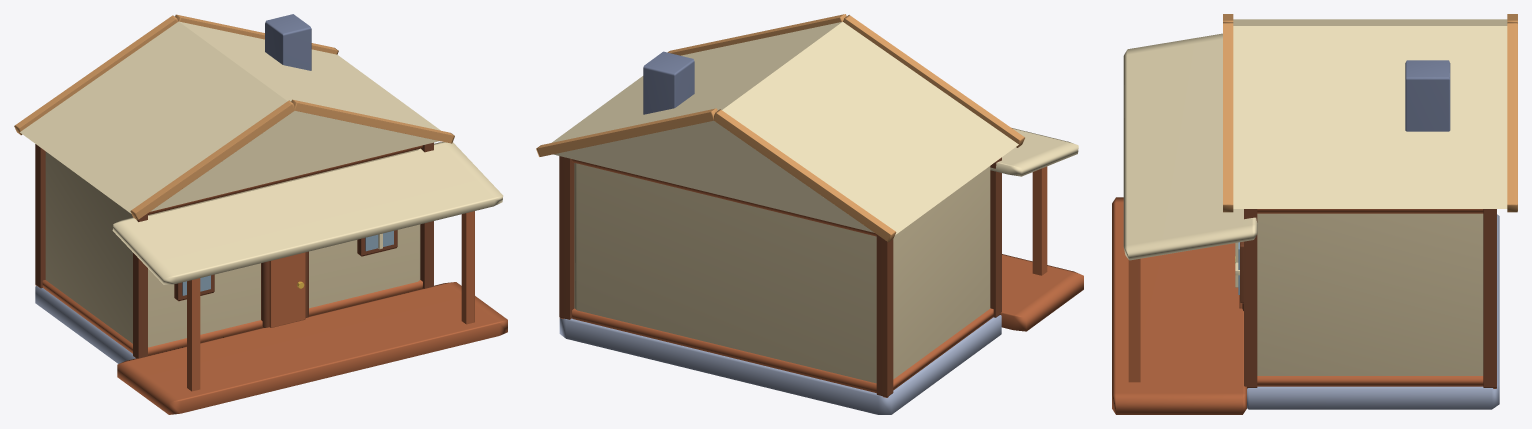
Rendered from farm_longhouse.glb.
3 views of the same model, side by side, from view 1: azimuth 30°, elevation 25°; view 2: azimuth 150°, elevation 25°; view 3: azimuth 270°, elevation 25° (orthographic). The views are drawn at different scales.
Visible parts, largest first — view 1: Pitched roof.001, Porch canopy.001, Plaster walls.001, Porch deck.001, Timber band.002, Door planks.001, Roof trim.004, Chimney.001, Stone footing.001, Roof trim.005, Roof trim.006, Porch post.002 (+7 smaller); view 2: Plaster walls.001, Pitched roof.001, Stone footing.001, Timber band.002, Porch deck.001, Roof trim.006, Corner post.005, Chimney.001, Corner post.007, Porch canopy.001, Roof trim.007, Roof trim.004 (+4 smaller); view 3: Pitched roof.001, Plaster walls.001, Porch canopy.001, Porch deck.001, Stone footing.001, Chimney.001, Corner post.007, Timber band.002, Corner post.006, Roof trim.007, Roof trim.005, Porch post.003 (+1 smaller).
Boxes of the visible parts, bbox=[...] form: Pitched roof.001: bbox=[20, 21, 440, 213]; Porch canopy.001: bbox=[112, 142, 503, 284]; Plaster walls.001: bbox=[45, 149, 420, 347]; Porch deck.001: bbox=[117, 282, 507, 414]; Timber band.002: bbox=[42, 280, 422, 355]; Door planks.001: bbox=[269, 252, 305, 327]; Roof trim.004: bbox=[130, 100, 294, 220]; Chimney.001: bbox=[265, 14, 311, 70]; Stone footing.001: bbox=[35, 285, 135, 363]; Roof trim.005: bbox=[291, 99, 454, 143]; Roof trim.006: bbox=[14, 15, 178, 135]; Porch post.002: bbox=[187, 278, 200, 391]; Plaster walls.001: bbox=[574, 163, 990, 383]; Pitched roof.001: bbox=[551, 21, 1018, 234]; Stone footing.001: bbox=[559, 315, 1001, 414]; Timber band.002: bbox=[572, 308, 993, 392]; Porch deck.001: bbox=[1000, 254, 1083, 331]; Roof trim.006: bbox=[714, 109, 896, 242]; Corner post.005: bbox=[876, 234, 893, 397]; Chimney.001: bbox=[643, 51, 694, 114]; Corner post.007: bbox=[559, 156, 574, 319]; Porch canopy.001: bbox=[990, 128, 1078, 176]; Roof trim.007: bbox=[536, 108, 717, 156]; Roof trim.004: bbox=[843, 15, 1024, 147]; Pitched roof.001: bbox=[1233, 19, 1507, 208]; Plaster walls.001: bbox=[1257, 213, 1483, 375]; Porch canopy.001: bbox=[1123, 33, 1257, 260]; Porch deck.001: bbox=[1112, 197, 1246, 414]; Stone footing.001: bbox=[1247, 214, 1499, 409]; Chimney.001: bbox=[1405, 60, 1450, 131]; Corner post.007: bbox=[1483, 209, 1496, 388]; Timber band.002: bbox=[1257, 376, 1483, 386]; Corner post.006: bbox=[1244, 209, 1257, 388]; Roof trim.007: bbox=[1507, 22, 1517, 212]; Roof trim.005: bbox=[1223, 22, 1233, 212]; Porch post.003: bbox=[1128, 258, 1140, 382].
Size of the model in its own units: 6.4 by 4.41 by 5.42.
